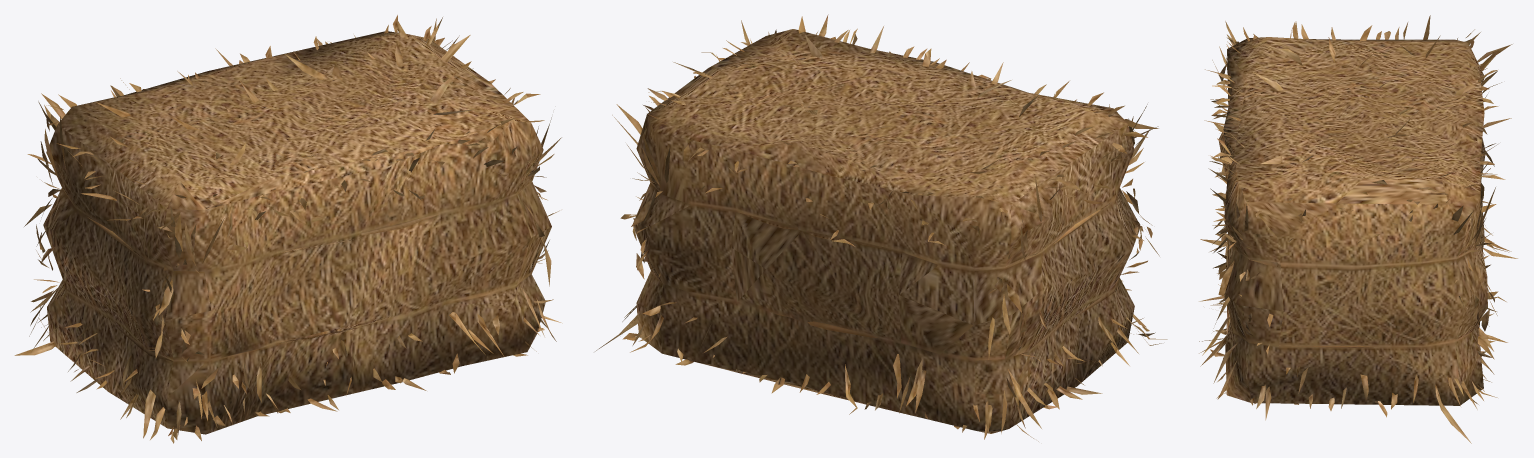
Rendered from straw.glb.
The picture shows the model from 3 angles, left to right: view 1: azimuth 30°, elevation 25°; view 2: azimuth 150°, elevation 25°; view 3: azimuth 270°, elevation 25°; orthographic projection. The views are drawn at different scales.
Parts seen in each view (by area): view 1: straw; view 2: straw; view 3: straw.
Boxes of the visible parts, bbox=[...] form: straw: bbox=[14, 15, 562, 443]; straw: bbox=[595, 14, 1167, 441]; straw: bbox=[1199, 15, 1517, 443].
Bounding box in the file's own units: 0.9971 × 0.5817 × 0.6811.
1 material, 1 textured.
